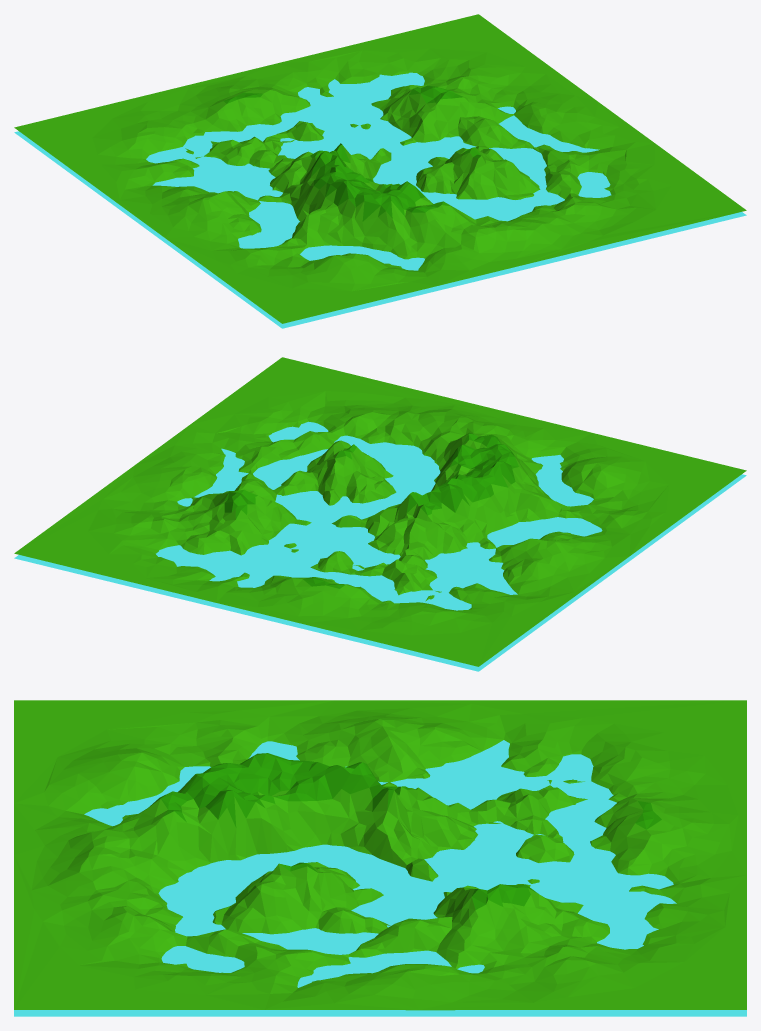
File: Pond.glb
The picture shows the model from 3 angles, top to bottom: view 1: azimuth 30°, elevation 25°; view 2: azimuth 150°, elevation 25°; view 3: azimuth 270°, elevation 25°; orthographic projection. The views are drawn at different scales.
Parts seen in each view (by area): view 1: Landscape.001, Landscape_plane.001; view 2: Landscape.001, Landscape_plane.001; view 3: Landscape.001, Landscape_plane.001.
Part boxes in pixels (left/top/right/bottom): Landscape.001: left=14, top=14, right=746, bottom=323; Landscape_plane.001: left=14, top=72, right=746, bottom=328; Landscape.001: left=14, top=357, right=746, bottom=666; Landscape_plane.001: left=14, top=421, right=746, bottom=671; Landscape.001: left=14, top=700, right=746, bottom=1010; Landscape_plane.001: left=14, top=740, right=746, bottom=1016.
Bounding box in the file's own units: 3 × 0.434 × 3.
